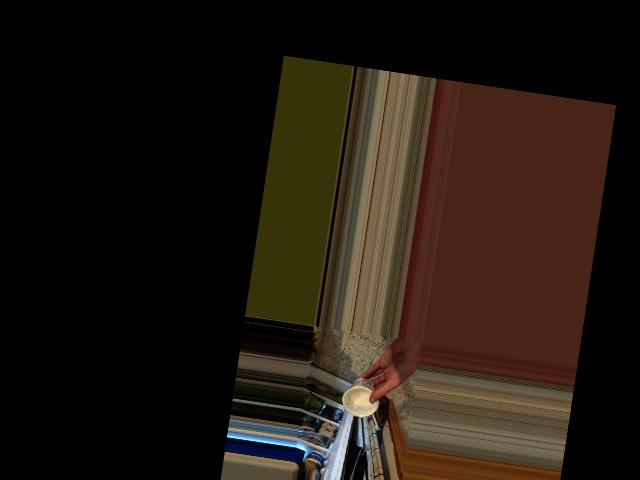cotage: (345, 374, 384, 419)
